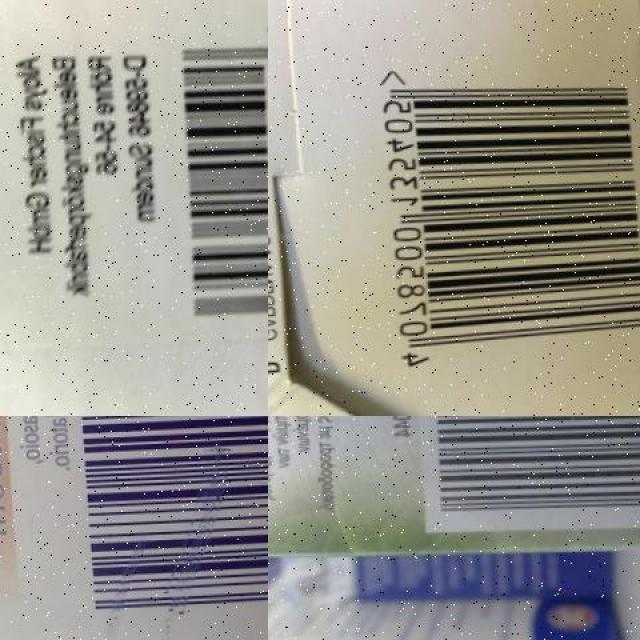Barcode: (362, 51, 640, 389), (63, 416, 268, 640), (159, 5, 268, 335), (405, 416, 640, 540)
